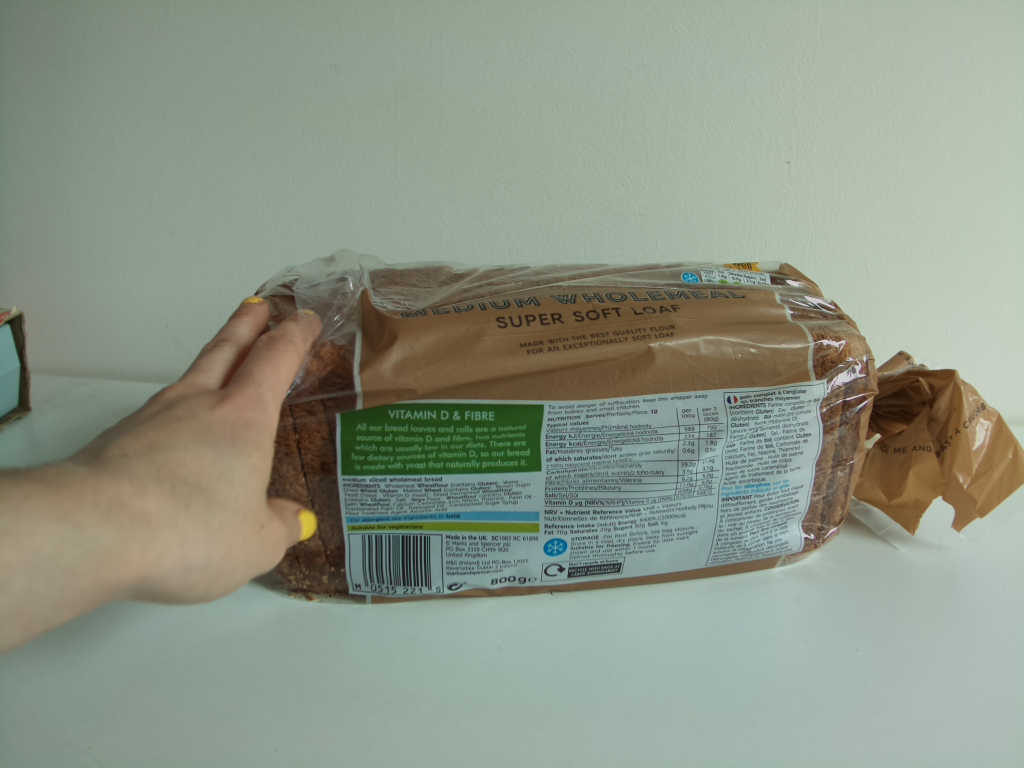bread: (247, 259, 1024, 603)
